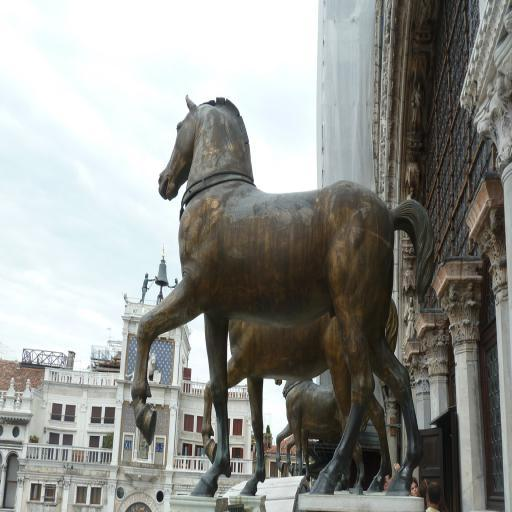Horse: (128, 95, 436, 503), (203, 318, 401, 490), (272, 376, 374, 498)
